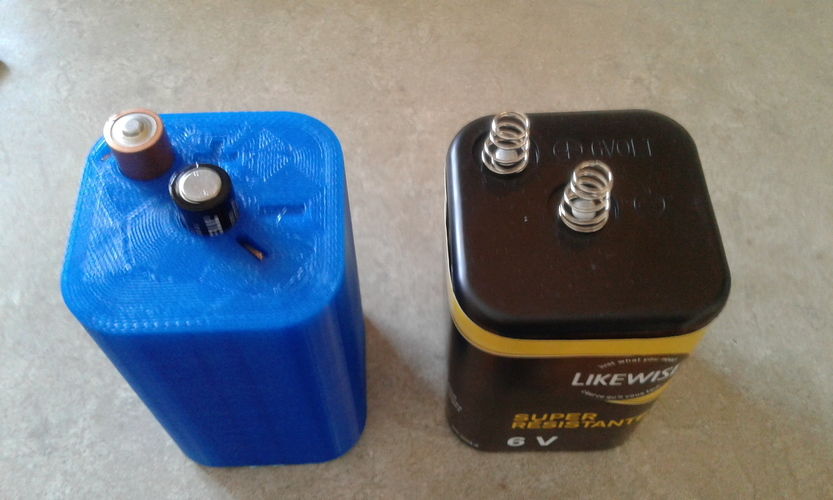6V: (422, 91, 738, 482)
